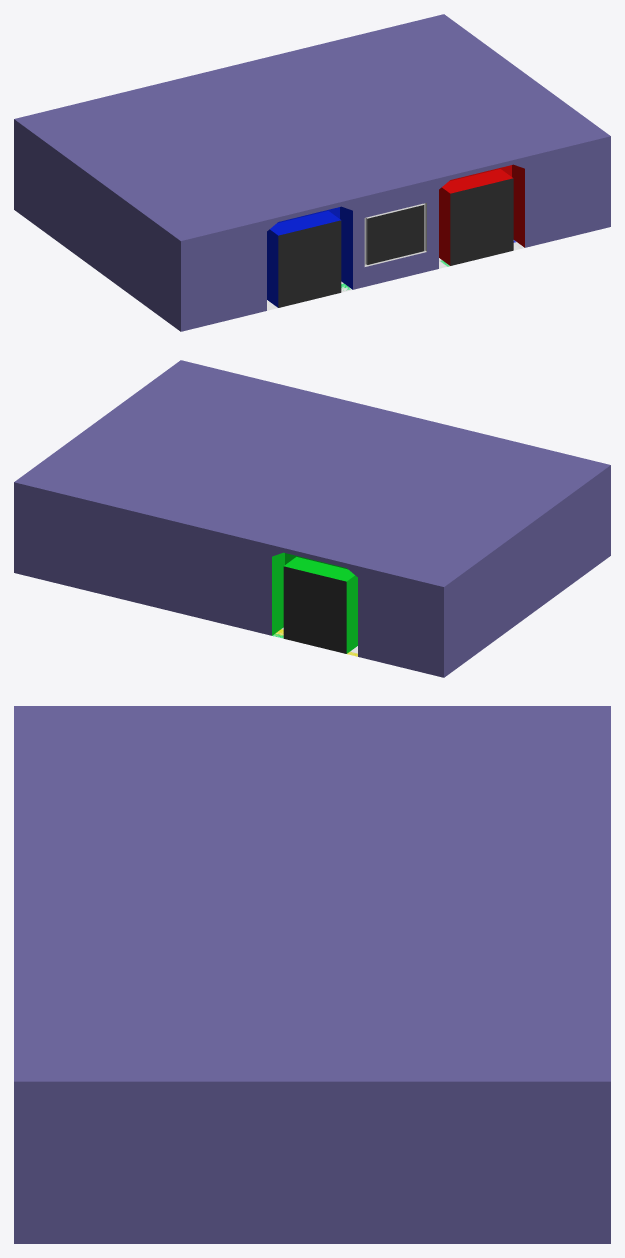
File: PackingFactory.glb
3 views of the same model, one above another, from view 1: azimuth 30°, elevation 25°; view 2: azimuth 150°, elevation 25°; view 3: azimuth 270°, elevation 25° (orthographic). The views are drawn at different scales.
Parts seen in each view (by area): view 1: room; view 2: room; view 3: room.
Boxes of the visible parts, x1,y1,x2,y2 form: room: [14, 14, 610, 331]; room: [14, 360, 610, 677]; room: [14, 706, 610, 1243].
Bounding box in the file's own units: 39.7 × 8 × 26.68.
Materials: 7 (1 with a texture image).
